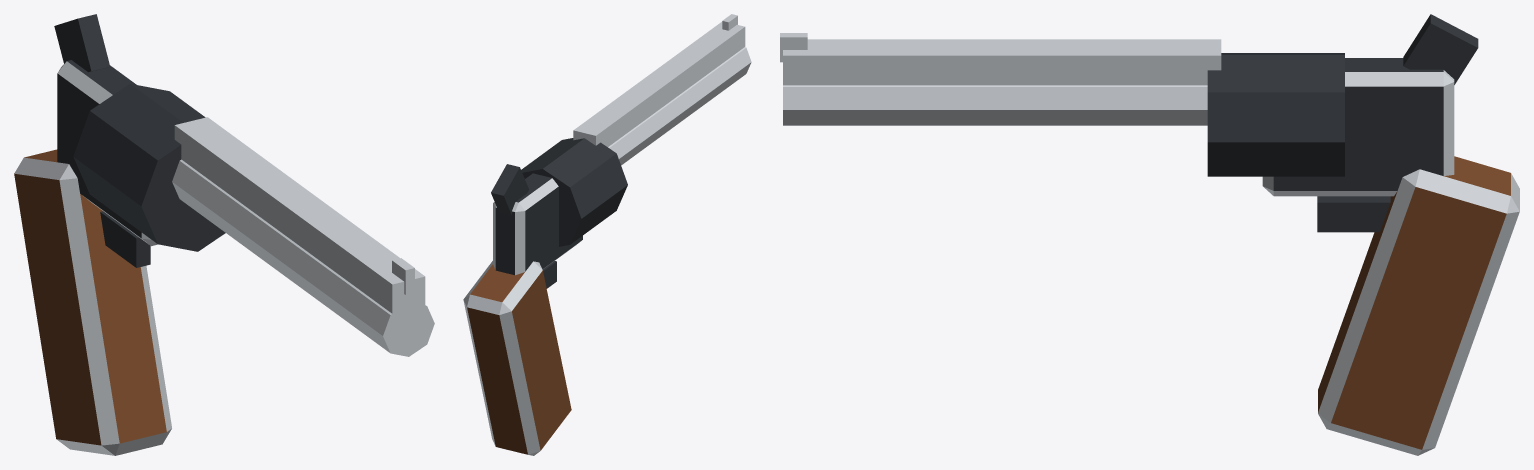
Rendered from WPN_Revolver.fbx.
3 renders of one model, left to right at view 1: azimuth 30°, elevation 25°; view 2: azimuth 150°, elevation 25°; view 3: azimuth 270°, elevation 25°, orthographic. The views are drawn at different scales.
Visible parts, largest first — view 1: WPN_Revolver__BODY; view 2: WPN_Revolver__BODY; view 3: WPN_Revolver__BODY.
Part boxes in pixels (x1=…): WPN_Revolver__BODY: x1=14, y1=14, x2=434, y2=455; WPN_Revolver__BODY: x1=463, y1=14, x2=751, y2=455; WPN_Revolver__BODY: x1=780, y1=14, x2=1519, y2=455.
Bounding box in the file's own units: 0.048 × 0.1714 × 0.2698.
